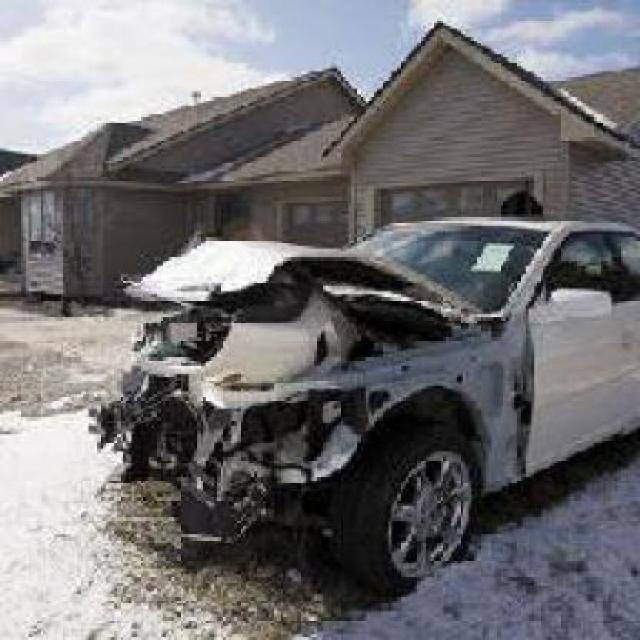damaged-front-bumper: (125, 403, 301, 537)
damaged-head-light: (248, 396, 366, 432)
damaged-hood: (140, 234, 477, 357)
